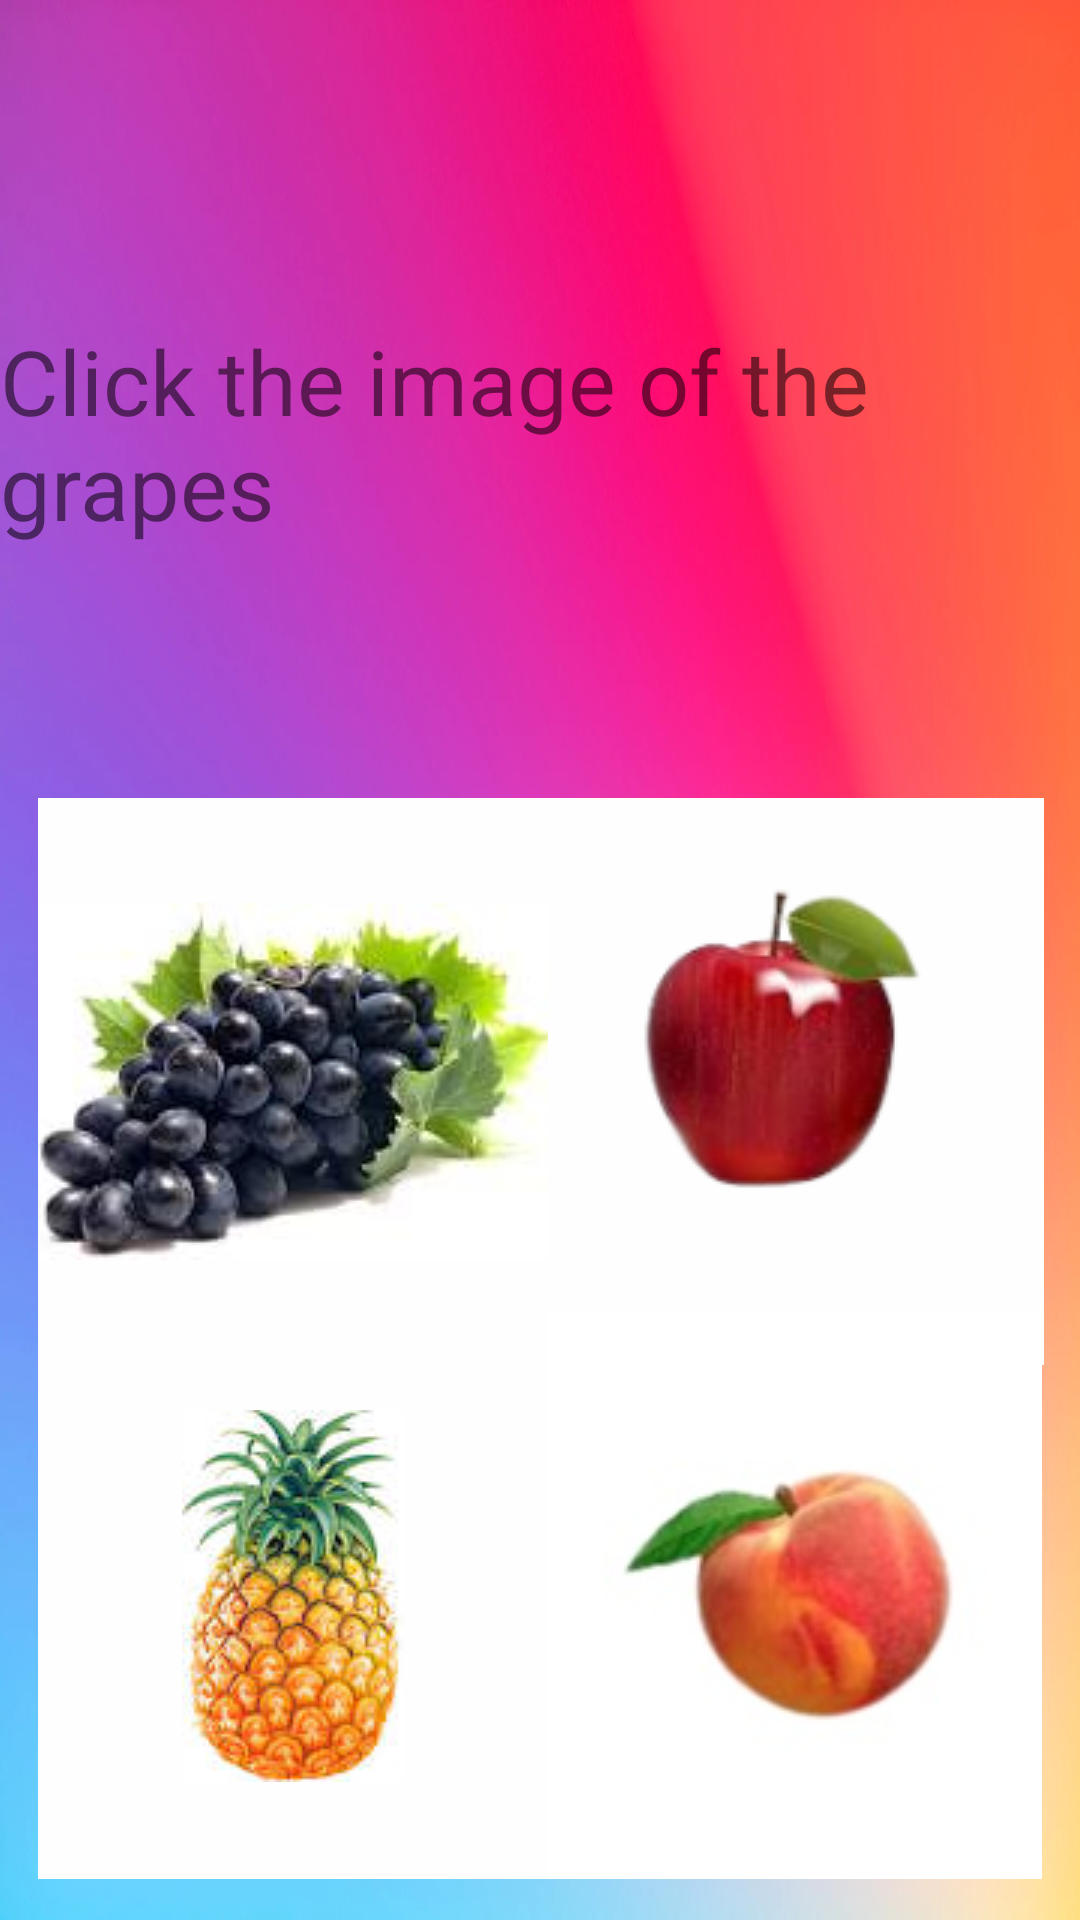

Icon click points for this 1080x1920 phone screenshot, format (x=x, y=y):
Apple Picture: (x=782, y=1039)
Peach Picture: (x=788, y=1595)
